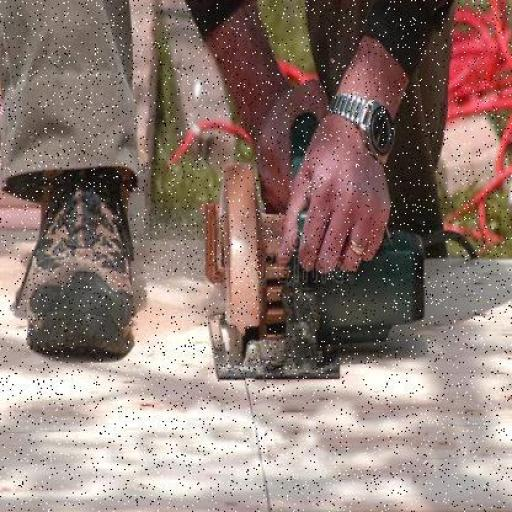safety_shoe: (29, 170, 140, 368)
